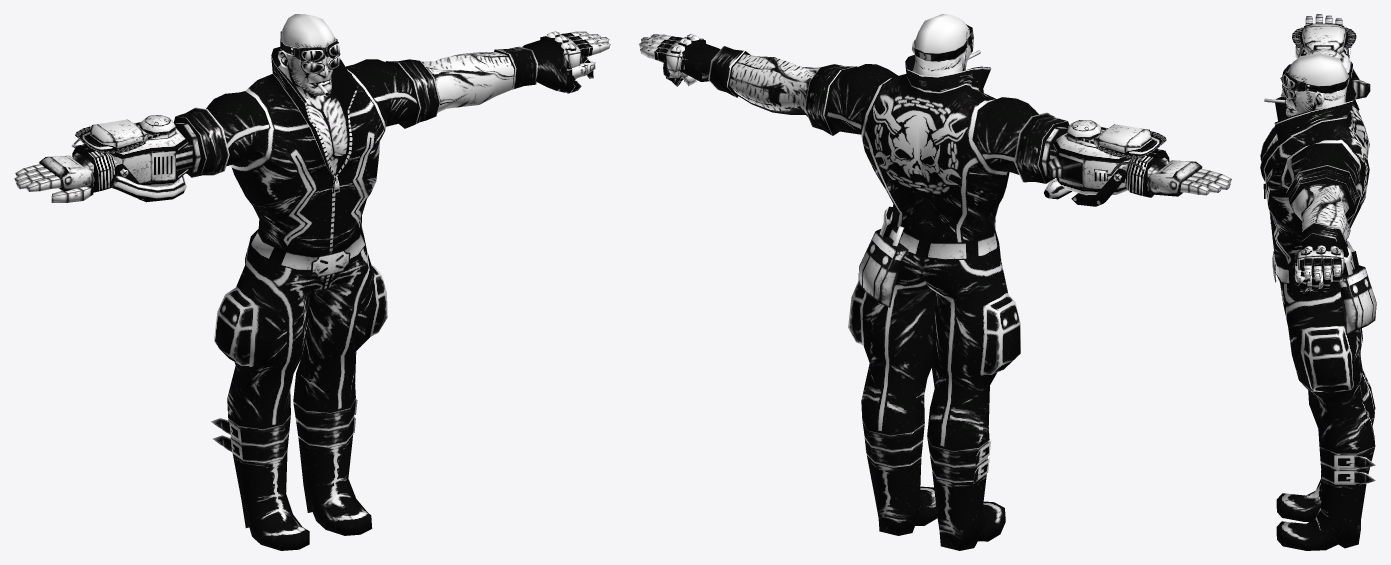
Rendered from Jack.obj.
3 views of the same model, side by side, from view 1: azimuth 30°, elevation 25°; view 2: azimuth 150°, elevation 25°; view 3: azimuth 270°, elevation 25° (orthographic). The views are drawn at different scales.
Visible parts, largest first — view 1: pl0030, pl0050, pl0040; view 2: pl0030, pl0050, pl0040; view 3: pl0030, pl0050, pl0040.
Part boxes in pixels (x1,y1,x2,y2): pl0030: (173, 14, 593, 550); pl0050: (14, 115, 188, 202); pl0040: (522, 31, 610, 78); pl0030: (663, 14, 1069, 550); pl0050: (1044, 120, 1231, 206); pl0040: (639, 34, 717, 79); pl0030: (1260, 53, 1376, 550); pl0050: (1292, 14, 1370, 99); pl0040: (1295, 241, 1342, 283).
Bounding box in the file's own units: 22.34 × 18.48 × 4.13.
42 materials, 42 textured.
